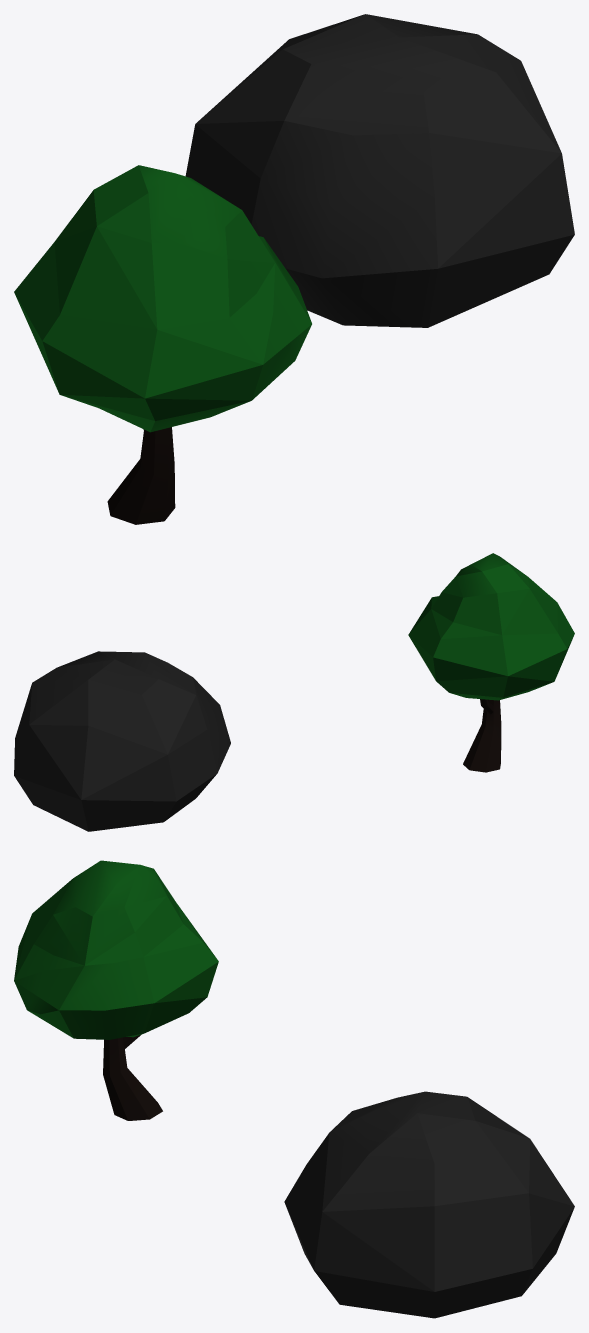
The model's file is pierda_1.FBX.
3 views of the same model, one above another, from view 1: azimuth 30°, elevation 25°; view 2: azimuth 150°, elevation 25°; view 3: azimuth 270°, elevation 25° (orthographic). The views are drawn at different scales.
Parts seen in each view (by area): view 1: pCylinder7, pCylinder6; view 2: pCylinder7, pCylinder6; view 3: pCylinder7, pCylinder6.
Boxes of the visible parts, x1=… form: pCylinder7: x1=185, y1=14, x2=574, y2=327; pCylinder6: x1=14, y1=165, x2=311, y2=524; pCylinder7: x1=14, y1=651, x2=230, y2=831; pCylinder6: x1=408, y1=553, x2=574, y2=772; pCylinder7: x1=284, y1=1091, x2=574, y2=1318; pCylinder6: x1=14, y1=860, x2=218, y2=1120.
Size of the model in its own units: 2.57 by 1.18 by 2.35.
